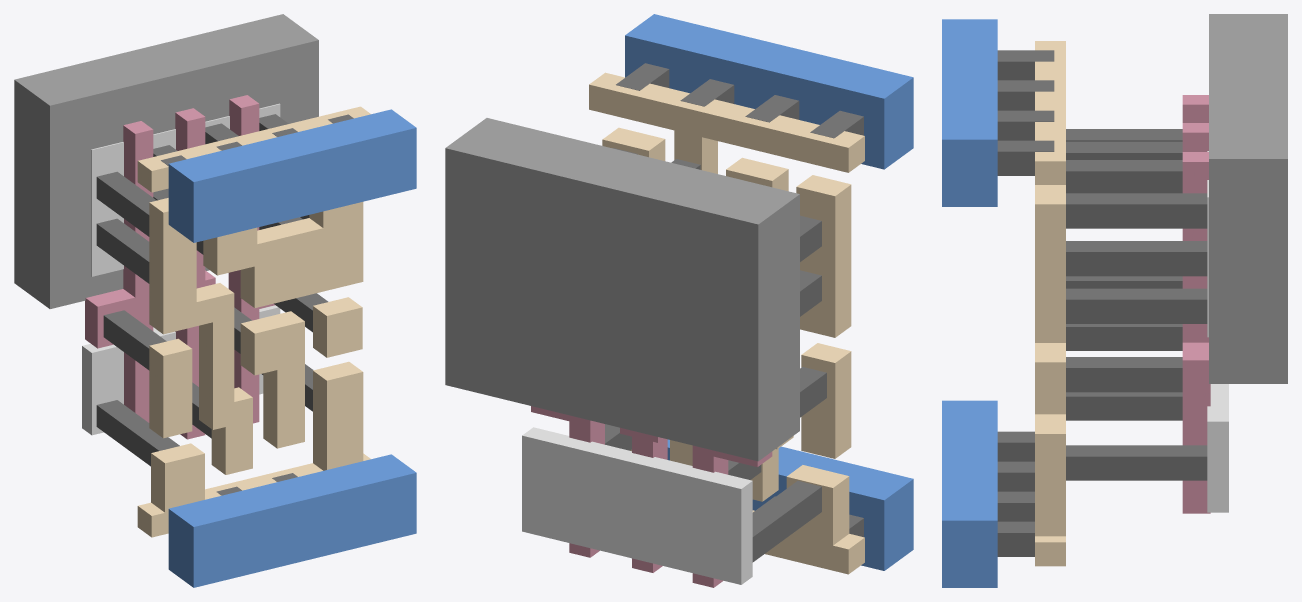
File: sky130_fd_sc_hd__a21oi_1.gds.gltf
3 views of the same model, side by side, from view 1: azimuth 30°, elevation 25°; view 2: azimuth 150°, elevation 25°; view 3: azimuth 270°, elevation 25° (orthographic). The views are drawn at different scales.
Parts seen in each view (by area): view 1: sky130_fd_sc_hd__a21oi_1_li1, sky130_fd_sc_hd__a21oi_1_met1, sky130_fd_sc_hd__a21oi_1_nwell, sky130_fd_sc_hd__a21oi_1_licon, sky130_fd_sc_hd__a21oi_1_poly, sky130_fd_sc_hd__a21oi_1_diff, sky130_fd_sc_hd__a21oi_1_mcon; view 2: sky130_fd_sc_hd__a21oi_1_nwell, sky130_fd_sc_hd__a21oi_1_li1, sky130_fd_sc_hd__a21oi_1_met1, sky130_fd_sc_hd__a21oi_1_diff, sky130_fd_sc_hd__a21oi_1_licon, sky130_fd_sc_hd__a21oi_1_mcon, sky130_fd_sc_hd__a21oi_1_poly; view 3: sky130_fd_sc_hd__a21oi_1_licon, sky130_fd_sc_hd__a21oi_1_nwell, sky130_fd_sc_hd__a21oi_1_met1, sky130_fd_sc_hd__a21oi_1_li1, sky130_fd_sc_hd__a21oi_1_mcon, sky130_fd_sc_hd__a21oi_1_poly, sky130_fd_sc_hd__a21oi_1_diff.
Boxes of the visible parts, x1=… form: sky130_fd_sc_hd__a21oi_1_li1: x1=137, y1=106, x2=370, y2=537; sky130_fd_sc_hd__a21oi_1_met1: x1=168, y1=109, x2=416, y2=587; sky130_fd_sc_hd__a21oi_1_nwell: x1=14, y1=14, x2=318, y2=308; sky130_fd_sc_hd__a21oi_1_licon: x1=96, y1=114, x2=328, y2=466; sky130_fd_sc_hd__a21oi_1_poly: x1=85, y1=95, x2=275, y2=439; sky130_fd_sc_hd__a21oi_1_diff: x1=82, y1=103, x2=280, y2=435; sky130_fd_sc_hd__a21oi_1_mcon: x1=161, y1=114, x2=353, y2=495; sky130_fd_sc_hd__a21oi_1_nwell: x1=445, y1=118, x2=799, y2=461; sky130_fd_sc_hd__a21oi_1_li1: x1=589, y1=72, x2=864, y2=574; sky130_fd_sc_hd__a21oi_1_met1: x1=625, y1=14, x2=913, y2=570; sky130_fd_sc_hd__a21oi_1_diff: x1=522, y1=427, x2=752, y2=584; sky130_fd_sc_hd__a21oi_1_licon: x1=605, y1=148, x2=826, y2=562; sky130_fd_sc_hd__a21oi_1_mcon: x1=616, y1=63, x2=863, y2=537; sky130_fd_sc_hd__a21oi_1_poly: x1=531, y1=406, x2=772, y2=587; sky130_fd_sc_hd__a21oi_1_licon: x1=1066, y1=129, x2=1207, y2=480; sky130_fd_sc_hd__a21oi_1_nwell: x1=1209, y1=14, x2=1287, y2=383; sky130_fd_sc_hd__a21oi_1_met1: x1=942, y1=19, x2=997, y2=587; sky130_fd_sc_hd__a21oi_1_li1: x1=1035, y1=41, x2=1065, y2=566; sky130_fd_sc_hd__a21oi_1_mcon: x1=997, y1=50, x2=1054, y2=556; sky130_fd_sc_hd__a21oi_1_poly: x1=1182, y1=95, x2=1210, y2=513; sky130_fd_sc_hd__a21oi_1_diff: x1=1207, y1=151, x2=1228, y2=512.
Size of the model in its own units: 2.22 by 3.2 by 2.24.
